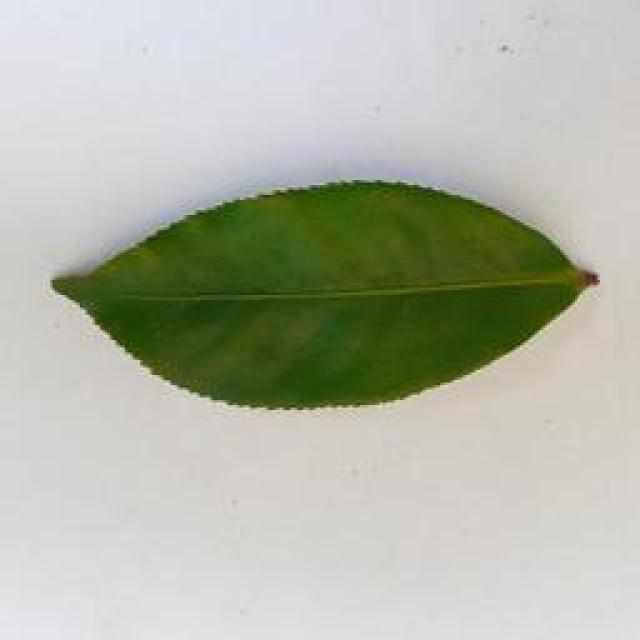Healthy: (47, 184, 601, 420)
